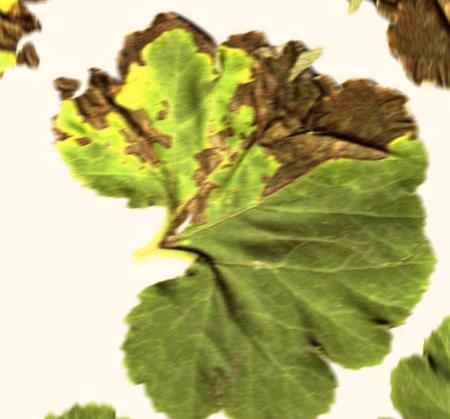Tomato leaf bacterial spot: (21, 0, 430, 327)
